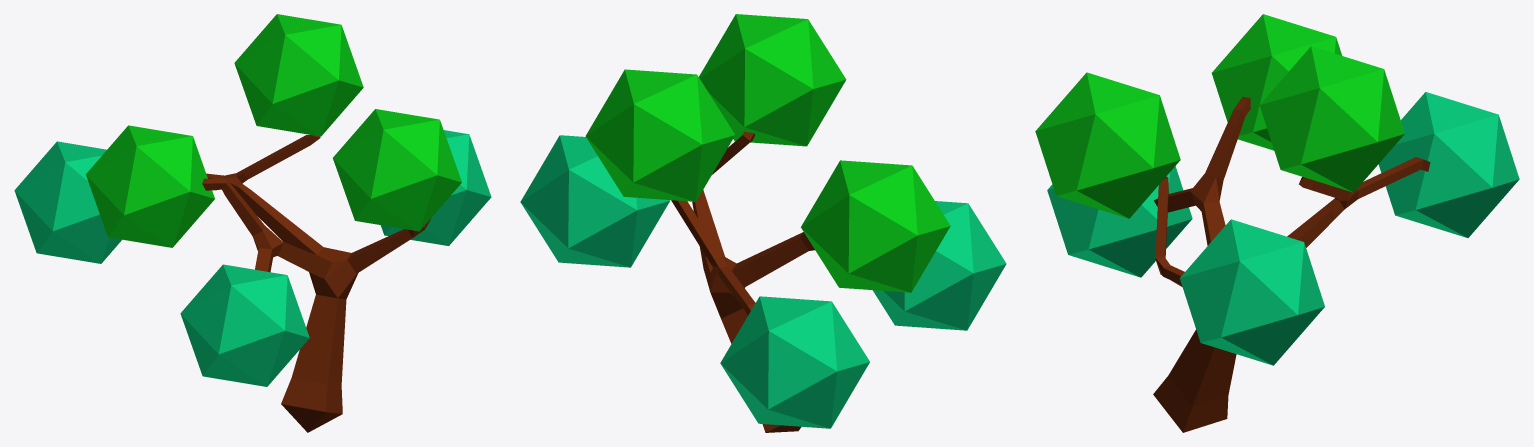
Rendered from LowPolyTree.obj.
The picture shows the model from 3 angles, left to right: view 1: azimuth 30°, elevation 25°; view 2: azimuth 150°, elevation 25°; view 3: azimuth 270°, elevation 25°; orthographic projection. The views are drawn at different scales.
Visible parts, largest first — view 1: Root, Leaf5, Leaf4, Leaf3, Leaf6, Leaf2, Leaf1; view 2: Leaf6, Leaf4, Leaf2, Leaf3, Leaf1, Leaf5, Root; view 3: Leaf3, Leaf1, Leaf4, Leaf2, Root, Leaf6, Leaf5.
Part boxes in pixels (x1=…): Root: x1=202, y1=135, x2=430, y2=432; Leaf5: x1=180, y1=264, x2=309, y2=386; Leaf4: x1=234, y1=14, x2=363, y2=136; Leaf3: x1=333, y1=109, x2=461, y2=231; Leaf6: x1=86, y1=125, x2=214, y2=247; Leaf2: x1=14, y1=141, x2=121, y2=263; Leaf1: x1=380, y1=130, x2=491, y2=245; Leaf6: x1=801, y1=160, x2=950, y2=292; Leaf4: x1=585, y1=69, x2=734, y2=201; Leaf2: x1=720, y1=296, x2=869, y2=428; Leaf3: x1=699, y1=14, x2=846, y2=146; Leaf1: x1=520, y1=135, x2=669, y2=267; Leaf5: x1=873, y1=201, x2=1006, y2=330; Root: x1=671, y1=131, x2=814, y2=432; Leaf3: x1=1035, y1=72, x2=1180, y2=218; Leaf1: x1=1179, y1=219, x2=1324, y2=365; Leaf4: x1=1259, y1=46, x2=1404, y2=192; Leaf2: x1=1378, y1=92, x2=1519, y2=237; Root: x1=1153, y1=97, x2=1430, y2=432; Leaf6: x1=1211, y1=14, x2=1342, y2=150; Leaf5: x1=1047, y1=166, x2=1192, y2=277.
Size of the model in its own units: 6.1 by 5.59 by 6.16.
